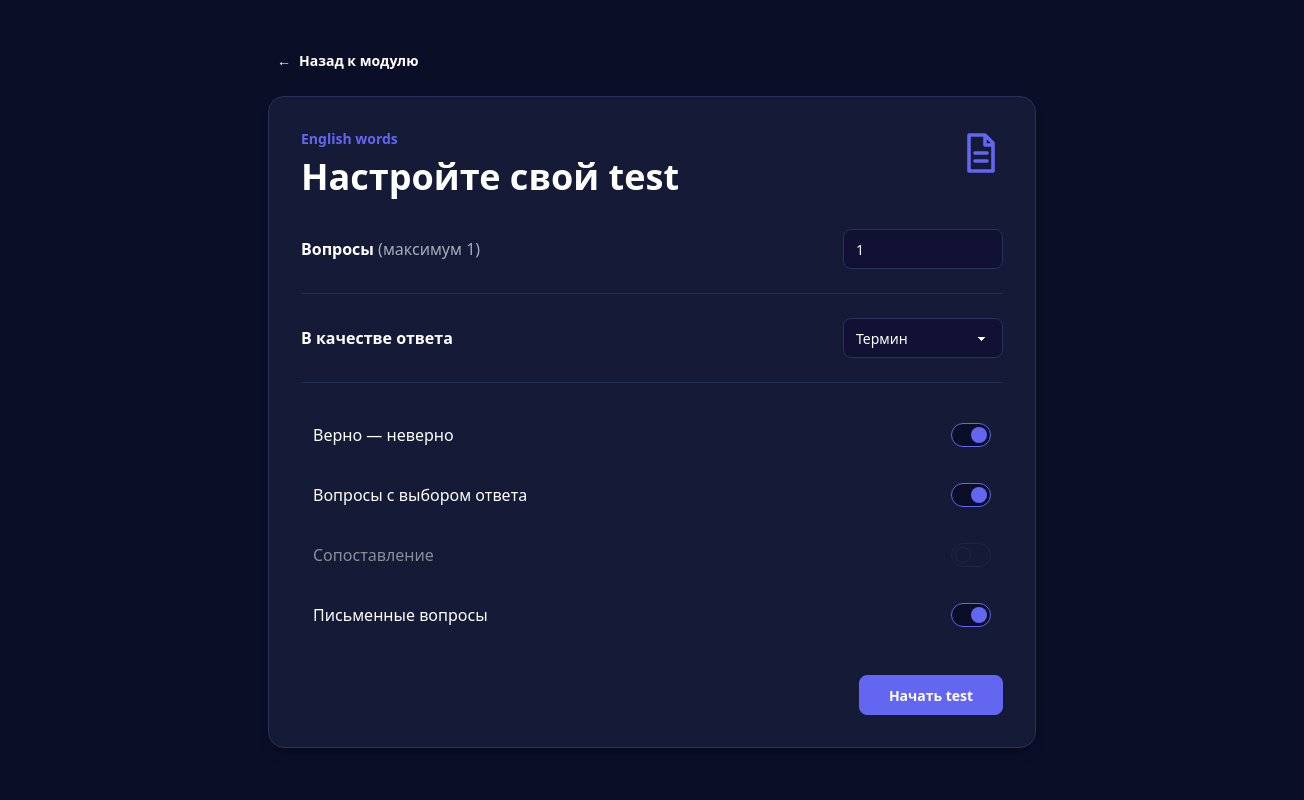
Test: TestExercise › configures, completes, and scores a written test
Expected: the heading "Настройте свой test" is shown, [301, 157, 679, 197]
Expected: the number field labelled "Вопросы (максимум 1)" holds "1", [843, 229, 1003, 269]
Click the button "Начать test".
click(931, 695)  # box [859, 675, 1003, 715]
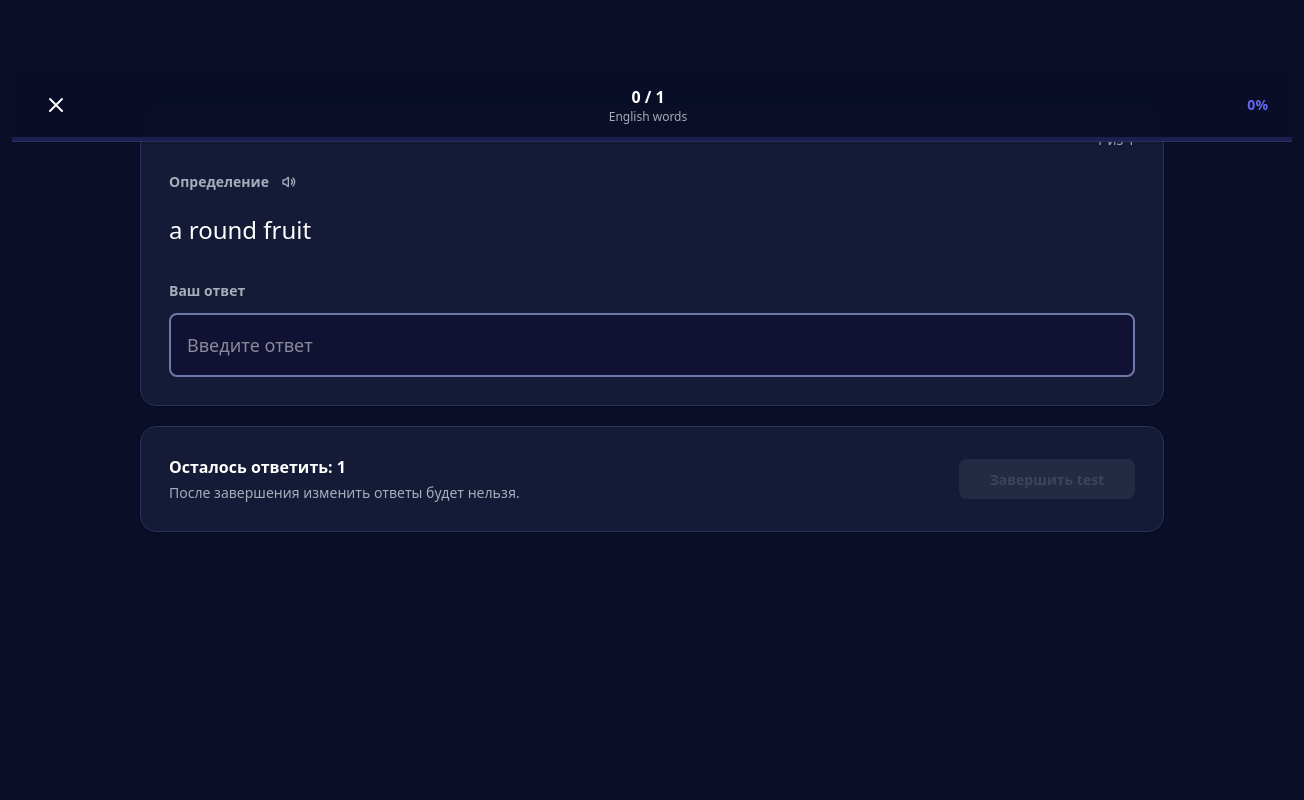
Expected: the button "Завершить test" is disabled, [959, 459, 1135, 499]
Type "  APPLE  " into the field labelled "Ваш ответ".
click(652, 345); type("  APPLE  ")  # box [169, 313, 1135, 377]
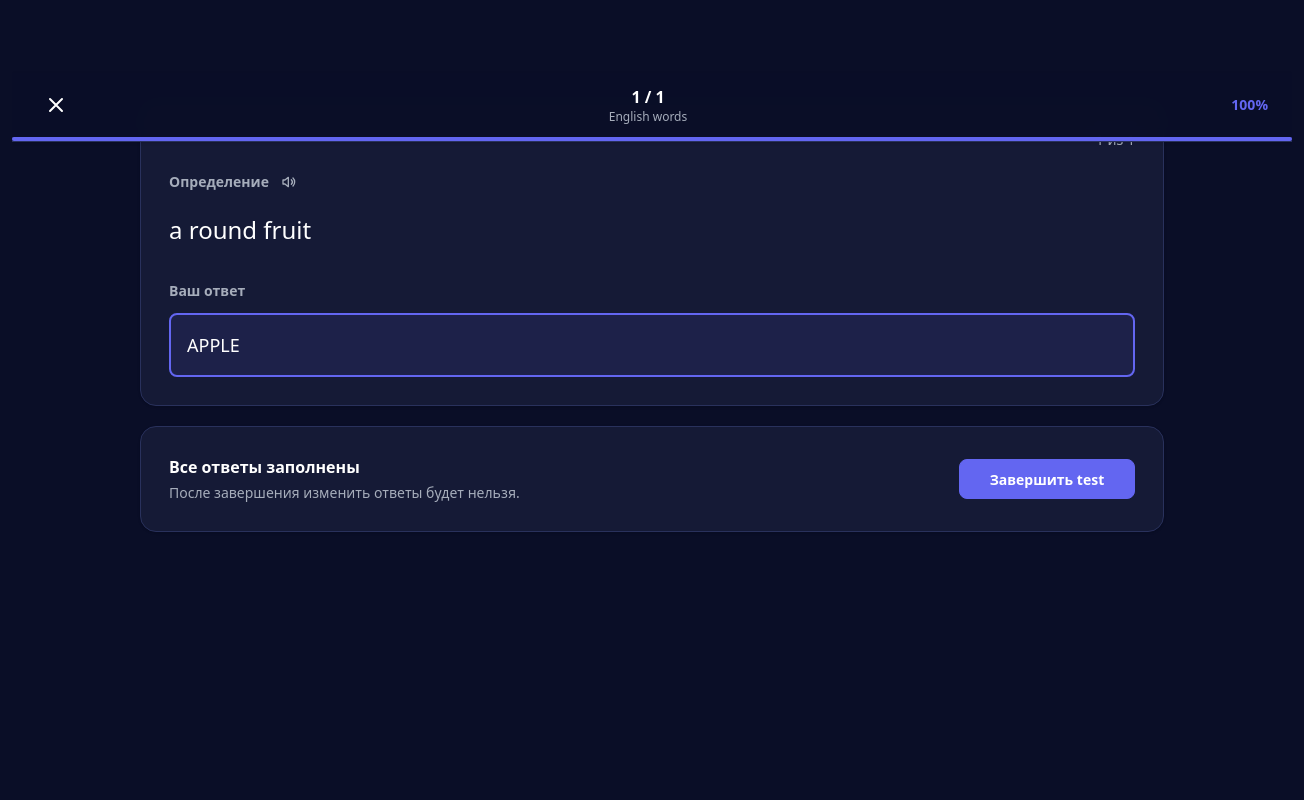
Expected: the button "Завершить test" is enabled
Click the button "Завершить test".
click(1047, 479)  # box [959, 459, 1135, 499]
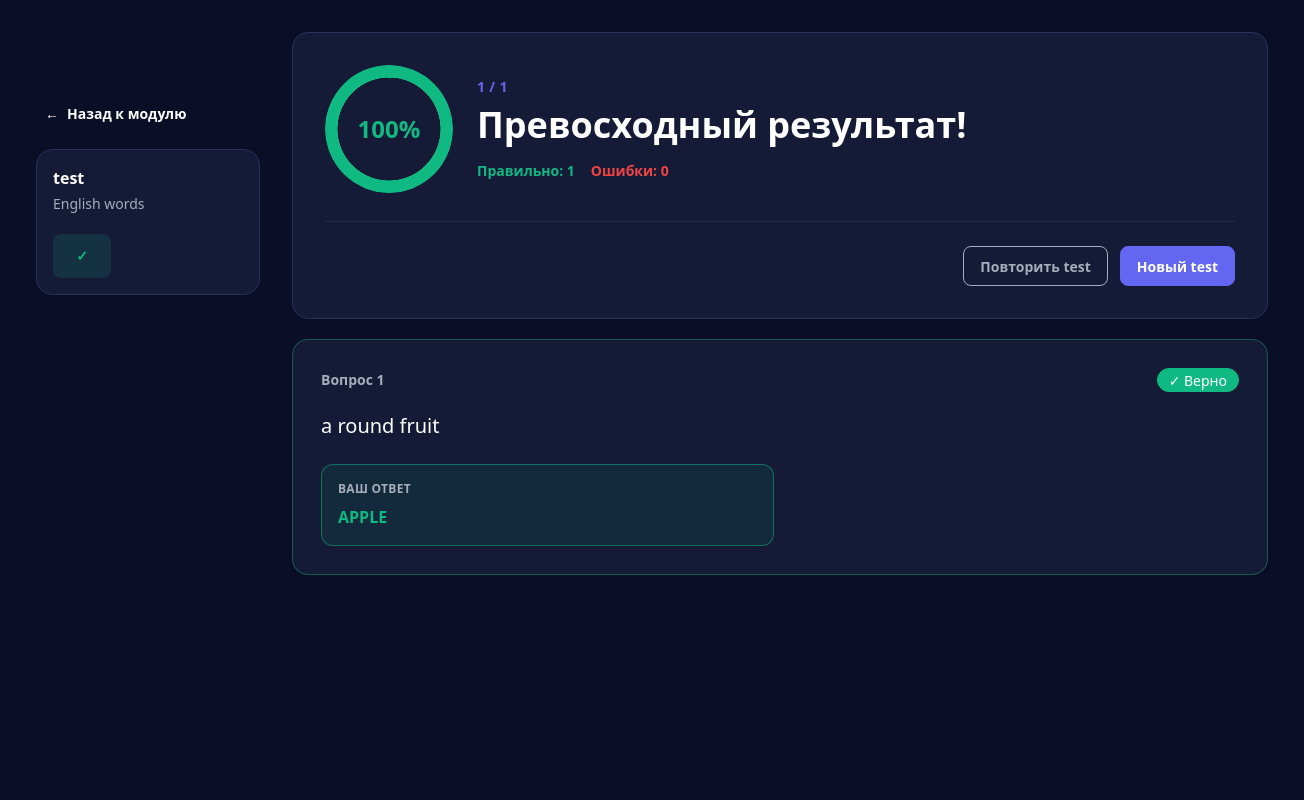
Expected: the progress indicator named "Результат теста: 100%" is shown, [358, 112, 420, 145]
Expected: the heading "Превосходный результат!" is shown, [477, 100, 966, 149]
Expected: the text "Правильно: 1" is shown, [477, 161, 575, 181]
